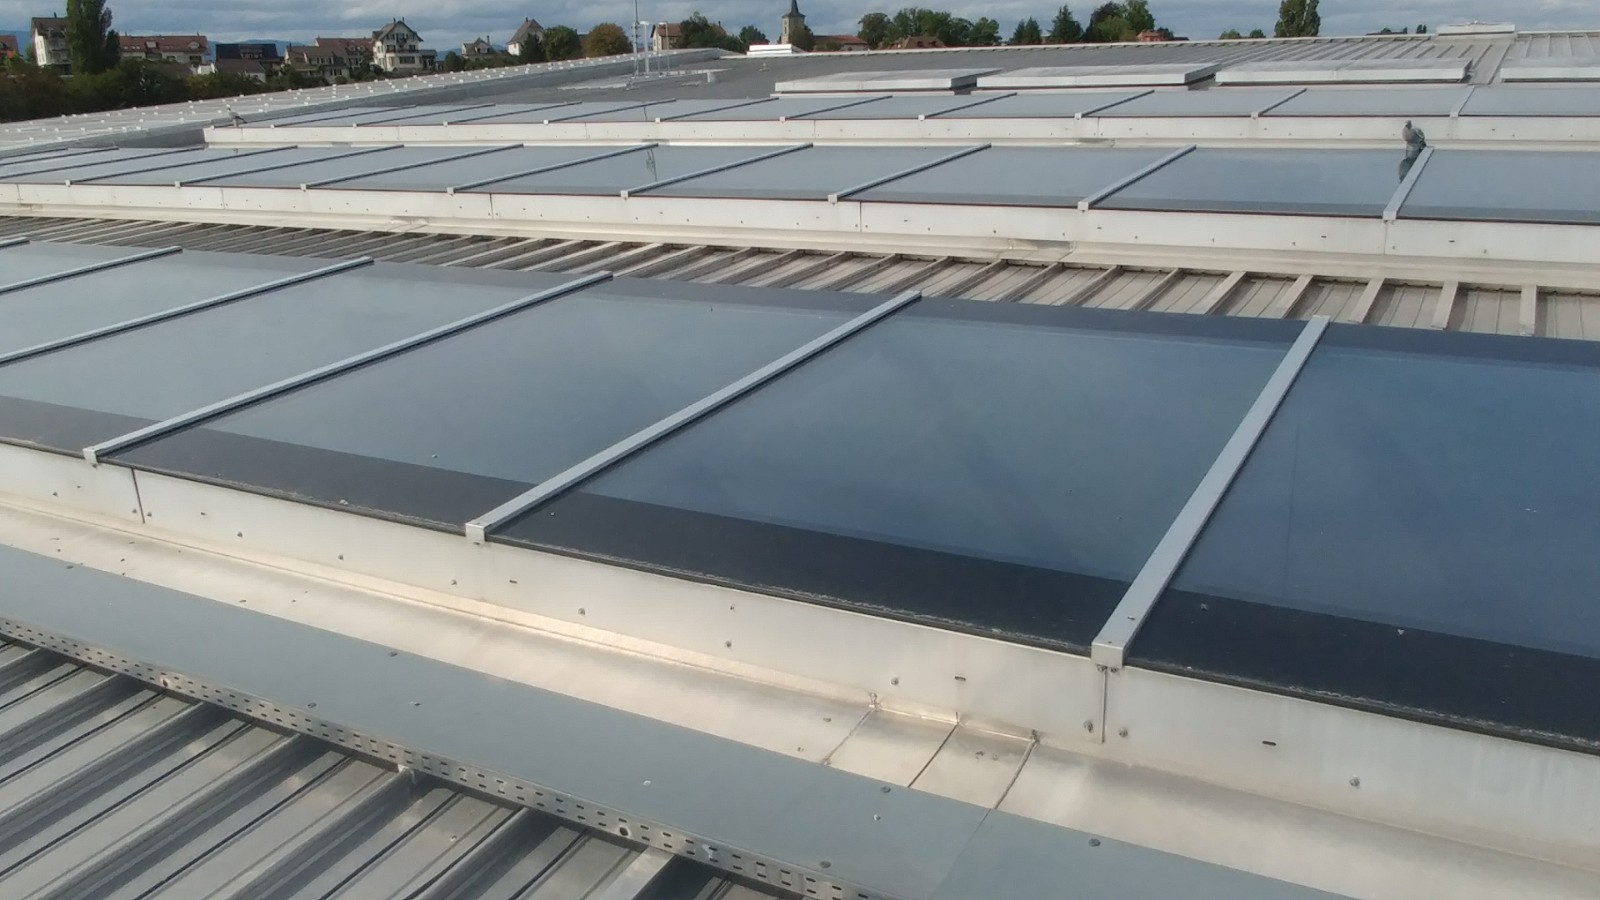Pigeon: (1393, 116, 1432, 152), (224, 105, 246, 127)
